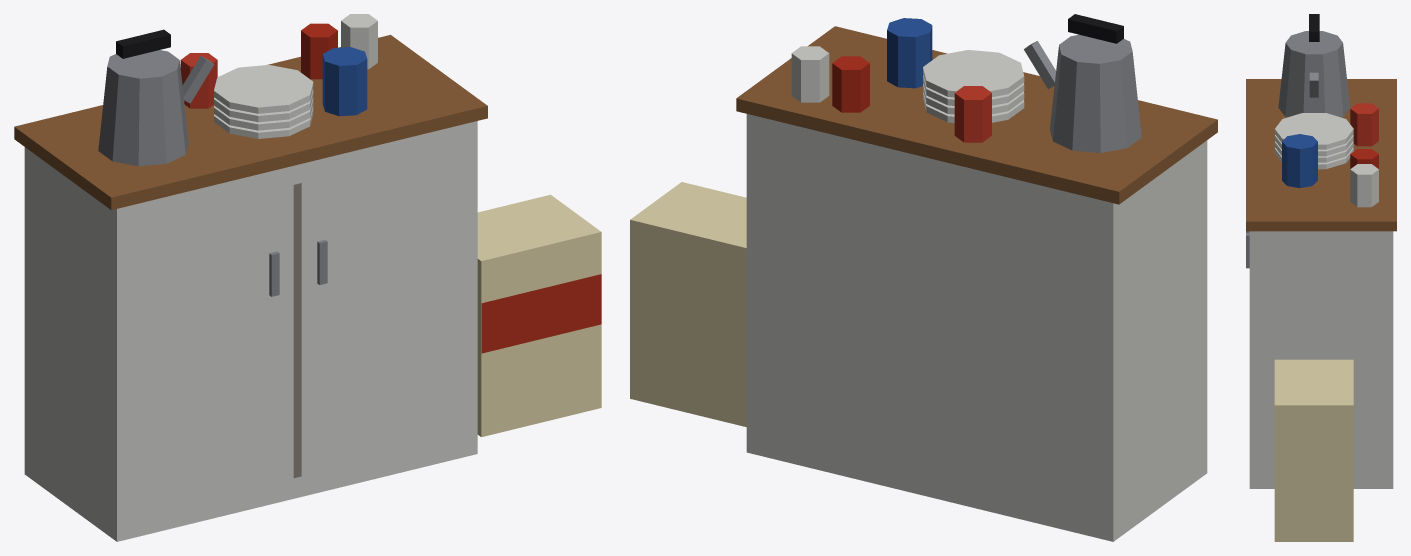
File: prop_kitchen-shelf.glb
3 renders of one model, left to right at view 1: azimuth 30°, elevation 25°; view 2: azimuth 150°, elevation 25°; view 3: azimuth 270°, elevation 25°, orthographic. The views are drawn at different scales.
Parts seen in each view (by area): view 1: body; view 2: body; view 3: body.
Part boxes in pixels (x1,y1,x2,y2): body: (14, 14, 601, 541); body: (630, 14, 1217, 541); body: (1246, 14, 1396, 541).
Size of the model in its own units: 1.27 by 1.09 by 0.42.
